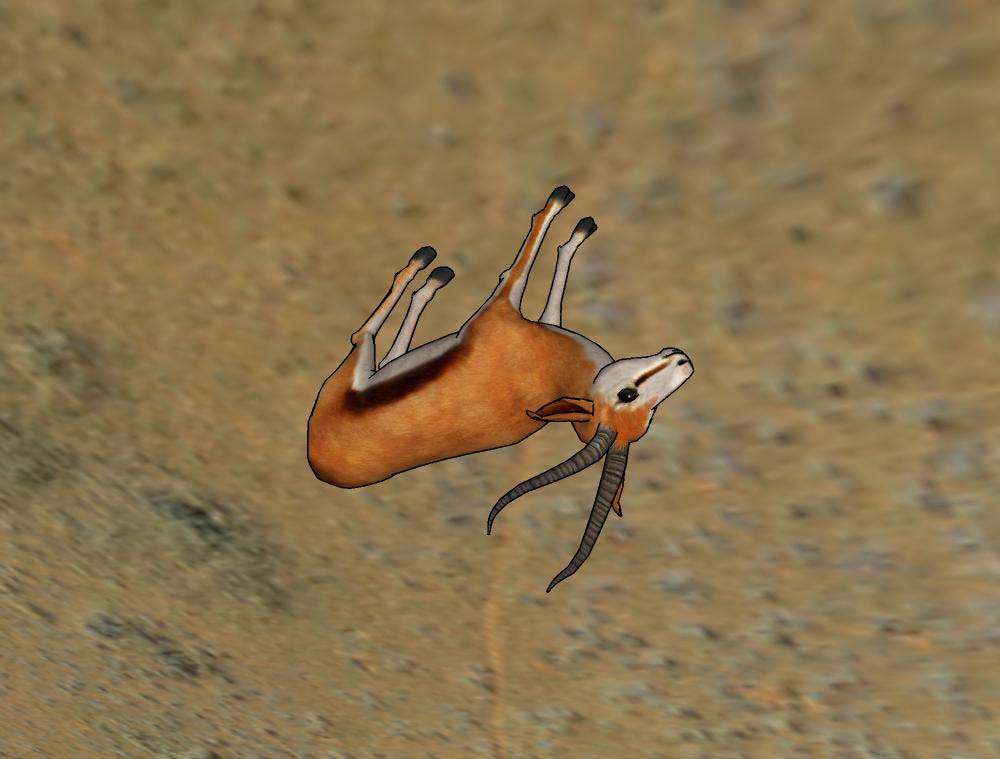springbok: (301, 178, 699, 600)
